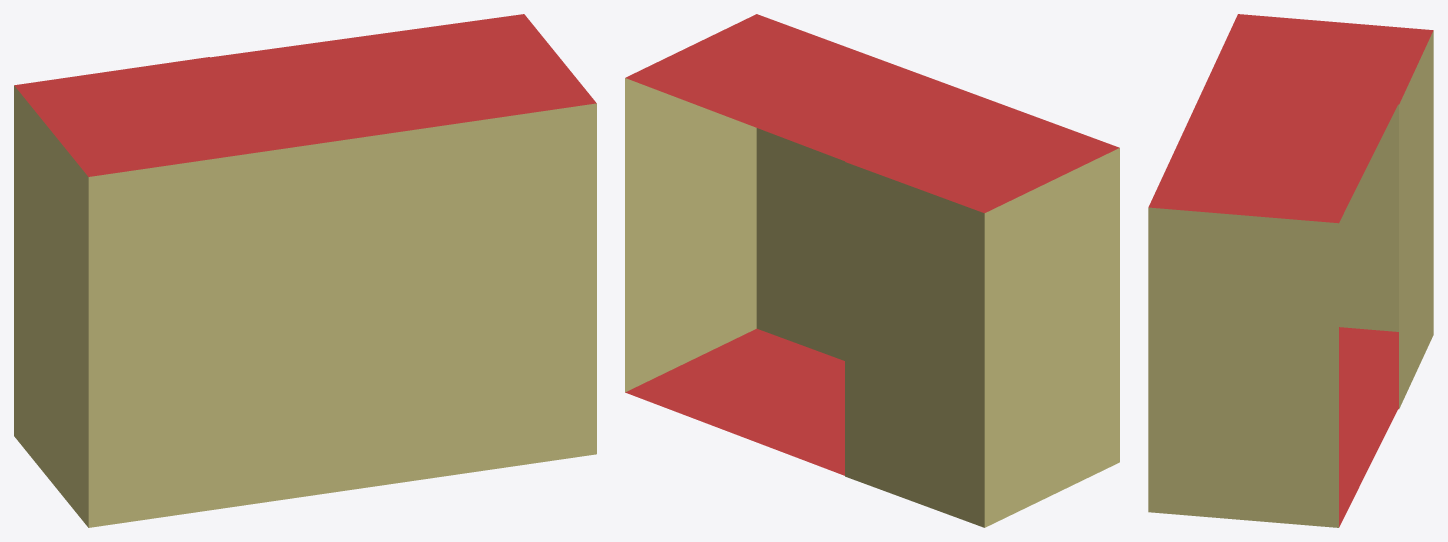
3 renders of one model, left to right at view 1: azimuth 30°, elevation 25°; view 2: azimuth 150°, elevation 25°; view 3: azimuth 270°, elevation 25°, orthographic. The views are drawn at different scales.
Visible parts, largest first — view 1: group_4, group_3; view 2: group_4, group_3, group_5; view 3: group_4, group_3, group_5.
Boxes of the visible parts, x1,y1,x2,y2 form: group_4: (14, 85, 596, 527); group_3: (14, 14, 596, 176); group_4: (625, 78, 1119, 527); group_3: (625, 14, 1119, 213); group_5: (625, 328, 844, 475); group_4: (1148, 31, 1433, 527); group_3: (1148, 14, 1433, 223); group_5: (1339, 327, 1398, 527).
Size of the model in its own units: 8.38 by 4.83 by 5.69.
